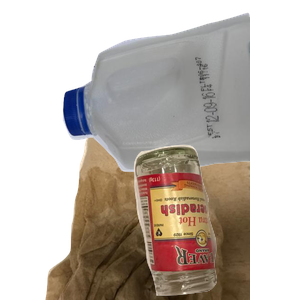glass: (131, 142, 300, 300)
metal: (99, 70, 236, 176)
plastic: (60, 10, 300, 175)
trash: (43, 120, 283, 300)
